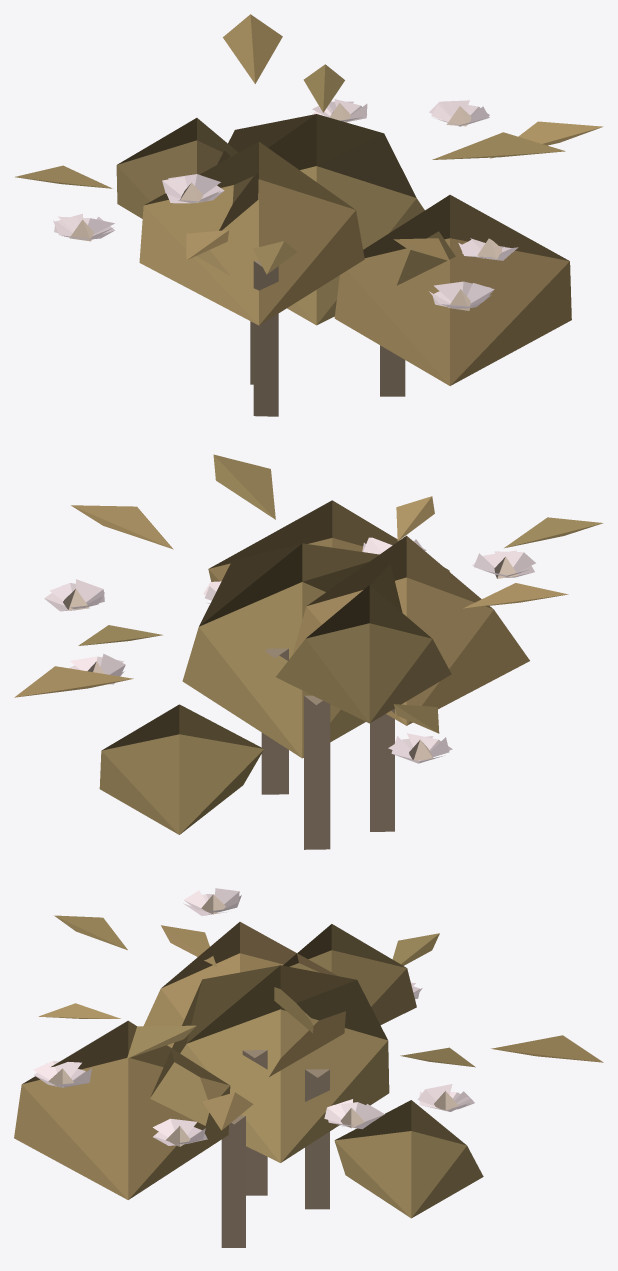
File: guan.zhizi__autumn.glb
The picture shows the model from 3 angles, top to bottom: view 1: azimuth 30°, elevation 25°; view 2: azimuth 150°, elevation 25°; view 3: azimuth 270°, elevation 25°; orthographic projection. The views are drawn at different scales.
Parts seen in each view (by area): view 1: guan.zhizi__autumn; view 2: guan.zhizi__autumn; view 3: guan.zhizi__autumn.
Boxes of the visible parts, bbox=[...] form: guan.zhizi__autumn: bbox=[15, 14, 603, 416]; guan.zhizi__autumn: bbox=[14, 454, 603, 849]; guan.zhizi__autumn: bbox=[14, 888, 603, 1247].
Bounding box in the file's own units: 2.51 × 1.46 × 2.89.
